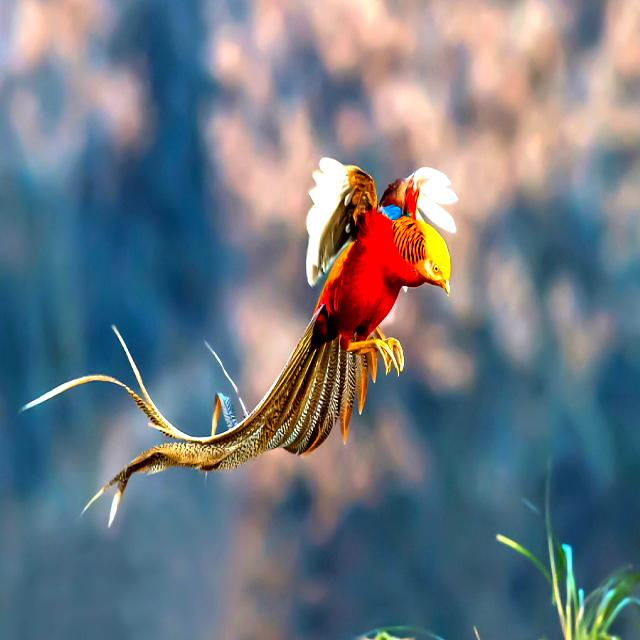Chrysolophus pictus feather: (27, 310, 403, 525)
